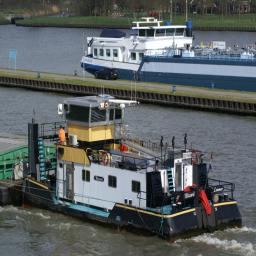tugboat: (20, 86, 246, 246)
